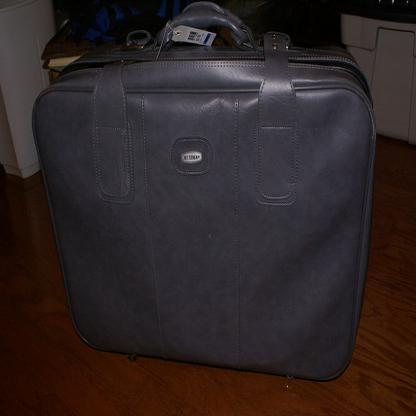suitcase: (29, 3, 377, 383)
